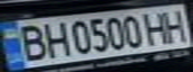0: (66, 17, 90, 55), (121, 12, 145, 48), (106, 15, 127, 51)
5: (87, 16, 109, 52)
B: (9, 21, 51, 62)
H: (36, 19, 72, 58), (139, 9, 172, 45), (160, 7, 190, 43)
